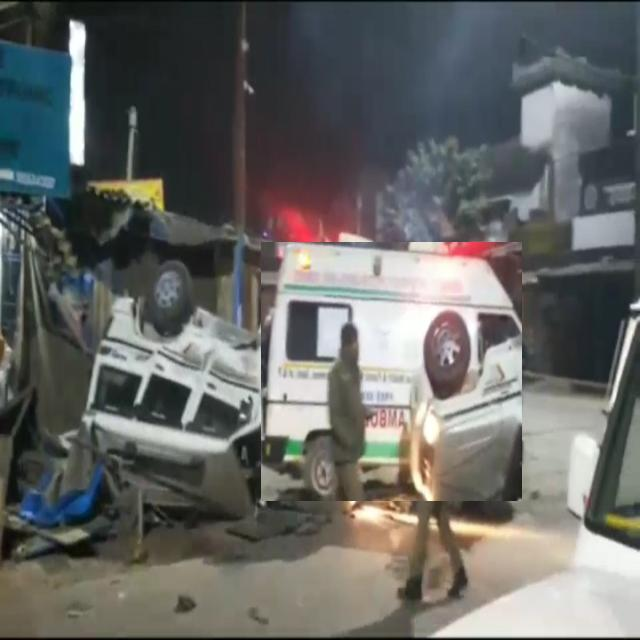accident: (81, 262, 372, 560)
emergency: (261, 242, 522, 501)
